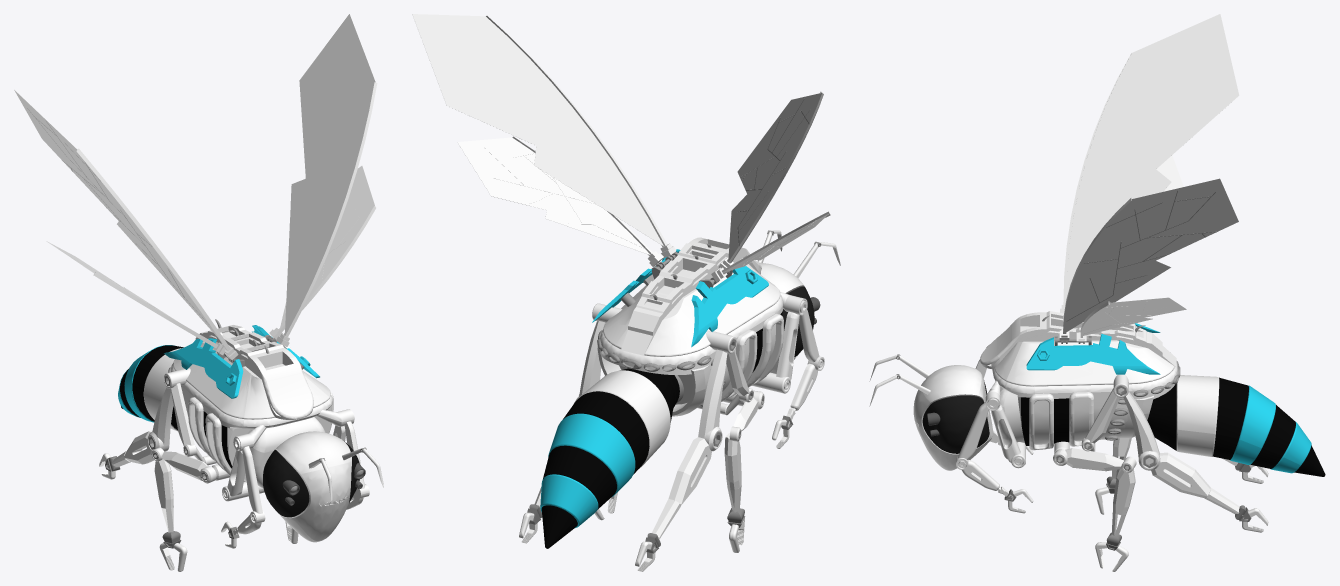
File: bee.glb
The picture shows the model from 3 angles, left to right: view 1: azimuth 30°, elevation 25°; view 2: azimuth 150°, elevation 25°; view 3: azimuth 270°, elevation 25°; orthographic projection. The views are drawn at different scales.
Parts seen in each view (by area): view 1: empty_55, empty_32, empty_58, empty_3, empty_38, empty_59, empty_5, empty_108, empty_91, empty_92, empty_117, empty_111 (+5 smaller); view 2: empty_55, empty_32, empty_58, empty_38, empty_93, empty_91, empty_59, empty_92, empty_94, empty_95, empty_117, empty_118 (+13 smaller); view 3: empty_58, empty_55, empty_32, empty_38, empty_91, empty_3, empty_43, empty_4, empty_92, empty_93, empty_71, empty_94 (+9 smaller).
Part boxes in pixels (x1,y1,x2,y2): empty_55: [267, 14, 377, 347]; empty_32: [171, 341, 333, 488]; empty_58: [14, 90, 238, 363]; empty_3: [275, 431, 351, 542]; empty_38: [195, 325, 313, 419]; empty_59: [164, 338, 243, 398]; empty_5: [263, 449, 309, 517]; empty_108: [164, 368, 216, 465]; empty_91: [143, 348, 182, 431]; empty_92: [132, 345, 183, 421]; empty_117: [147, 387, 173, 451]; empty_111: [151, 447, 208, 480]; empty_55: [412, 14, 676, 269]; empty_32: [600, 258, 783, 405]; empty_58: [710, 91, 830, 284]; empty_38: [621, 237, 761, 355]; empty_93: [548, 413, 635, 496]; empty_91: [574, 370, 670, 468]; empty_59: [691, 266, 768, 347]; empty_92: [563, 391, 649, 474]; empty_94: [543, 445, 616, 509]; empty_95: [540, 474, 598, 527]; empty_117: [698, 349, 727, 451]; empty_118: [668, 437, 711, 505]; empty_58: [1060, 14, 1239, 313]; empty_55: [1057, 178, 1238, 343]; empty_32: [993, 326, 1177, 450]; empty_38: [980, 311, 1176, 369]; empty_91: [1176, 375, 1219, 456]; empty_3: [913, 365, 993, 470]; empty_43: [1026, 334, 1160, 374]; empty_4: [922, 395, 989, 453]; empty_92: [1212, 377, 1248, 459]; empty_93: [1230, 385, 1275, 464]; empty_71: [1151, 452, 1210, 498]; empty_94: [1250, 405, 1295, 468].
Size of the model in its own units: 305 by 405 by 370.
